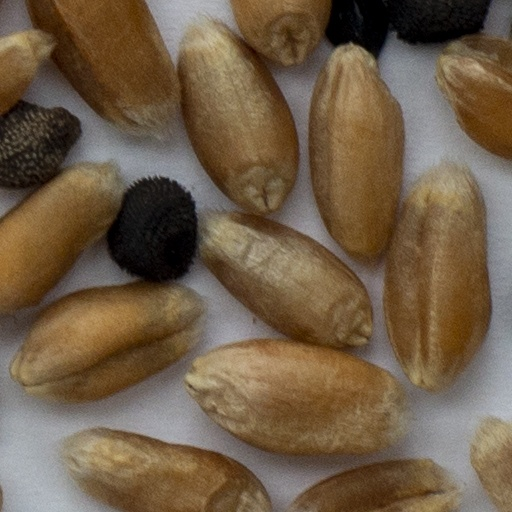Agrostemma-poly: (109, 177, 194, 279), (387, 0, 489, 40)
Convolvulus-poly: (0, 103, 78, 186)
Fallopia-Convolvulus-poly: (326, 0, 387, 52)
